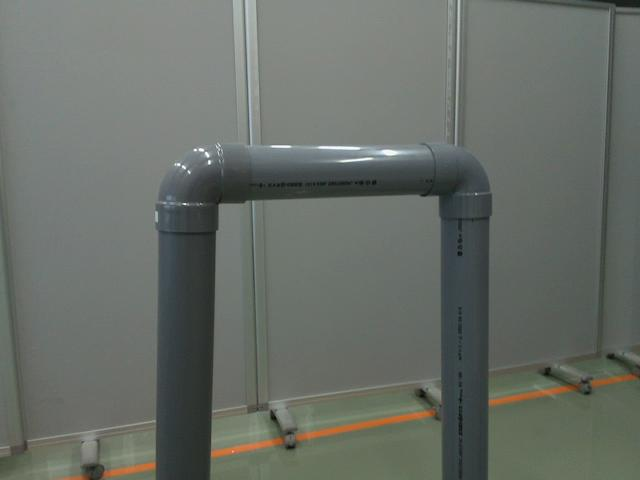bent: (159, 140, 252, 238), (413, 142, 492, 220)
